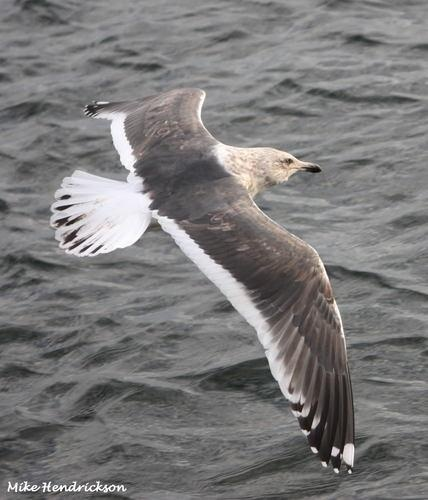bird: (50, 77, 368, 479)
